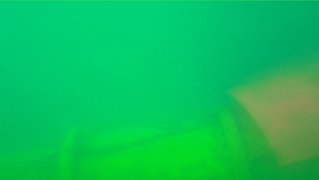leak: (228, 65, 319, 166)
pipe: (1, 104, 319, 180)
